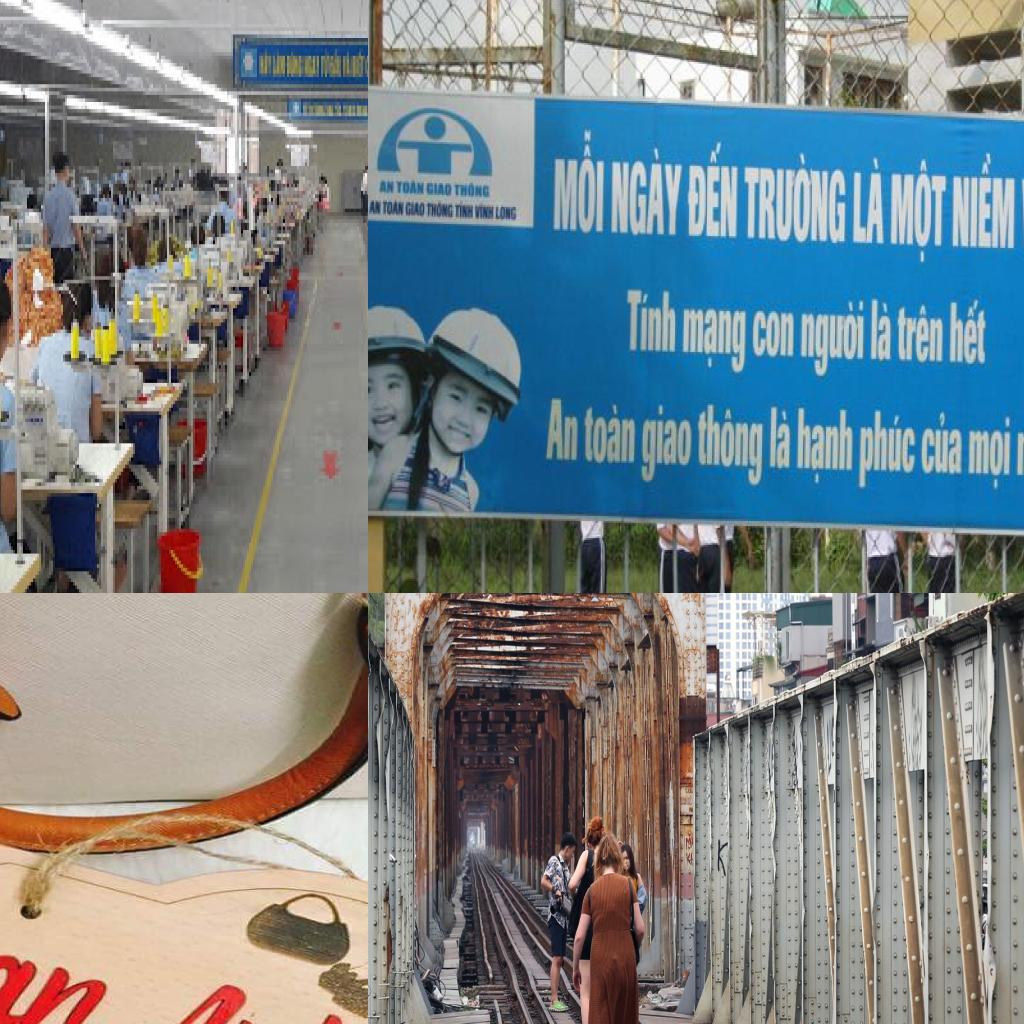text: (0, 899, 164, 1024), (106, 967, 368, 1024), (742, 152, 849, 246), (610, 142, 688, 240), (950, 149, 1017, 251), (698, 400, 766, 492), (891, 156, 948, 265), (554, 125, 608, 238), (800, 298, 866, 381), (686, 141, 740, 241), (858, 408, 917, 497), (796, 405, 856, 489), (681, 306, 748, 378), (638, 401, 694, 487), (626, 287, 678, 356), (582, 402, 636, 468), (968, 415, 1013, 492), (897, 299, 945, 368), (852, 156, 888, 246), (922, 410, 964, 482), (948, 298, 990, 368), (544, 396, 579, 465), (752, 308, 795, 362), (768, 405, 792, 475), (868, 297, 893, 364), (454, 182, 493, 200), (715, 836, 730, 881), (397, 178, 427, 197), (427, 202, 455, 221), (494, 204, 519, 224), (382, 200, 406, 219), (426, 182, 454, 198), (455, 200, 475, 222), (405, 200, 427, 219), (474, 204, 496, 222), (378, 180, 396, 195), (368, 200, 383, 217), (684, 835, 694, 852), (685, 852, 693, 868)
